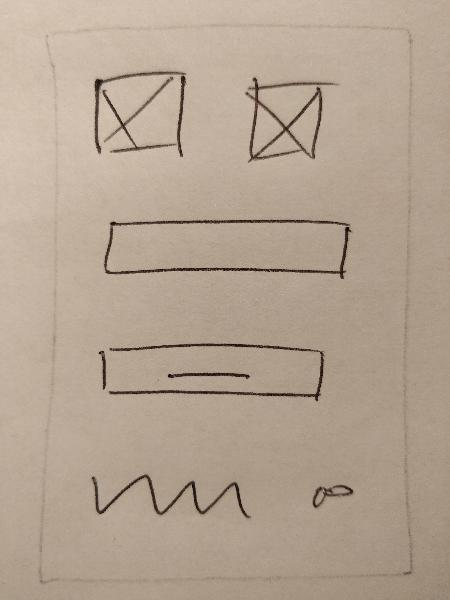button: (89, 334, 333, 411)
image: (84, 64, 193, 165), (238, 73, 340, 168)
switch: (301, 470, 367, 519)
text: (79, 455, 260, 533)
text_input: (93, 211, 356, 290)
